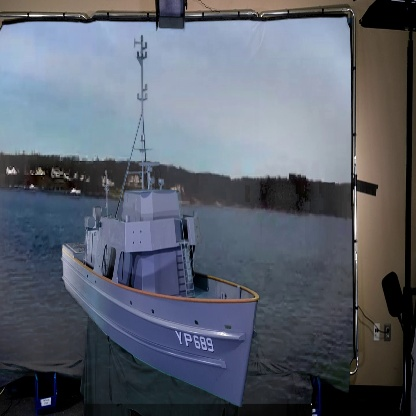YP689: (59, 34, 266, 410)
